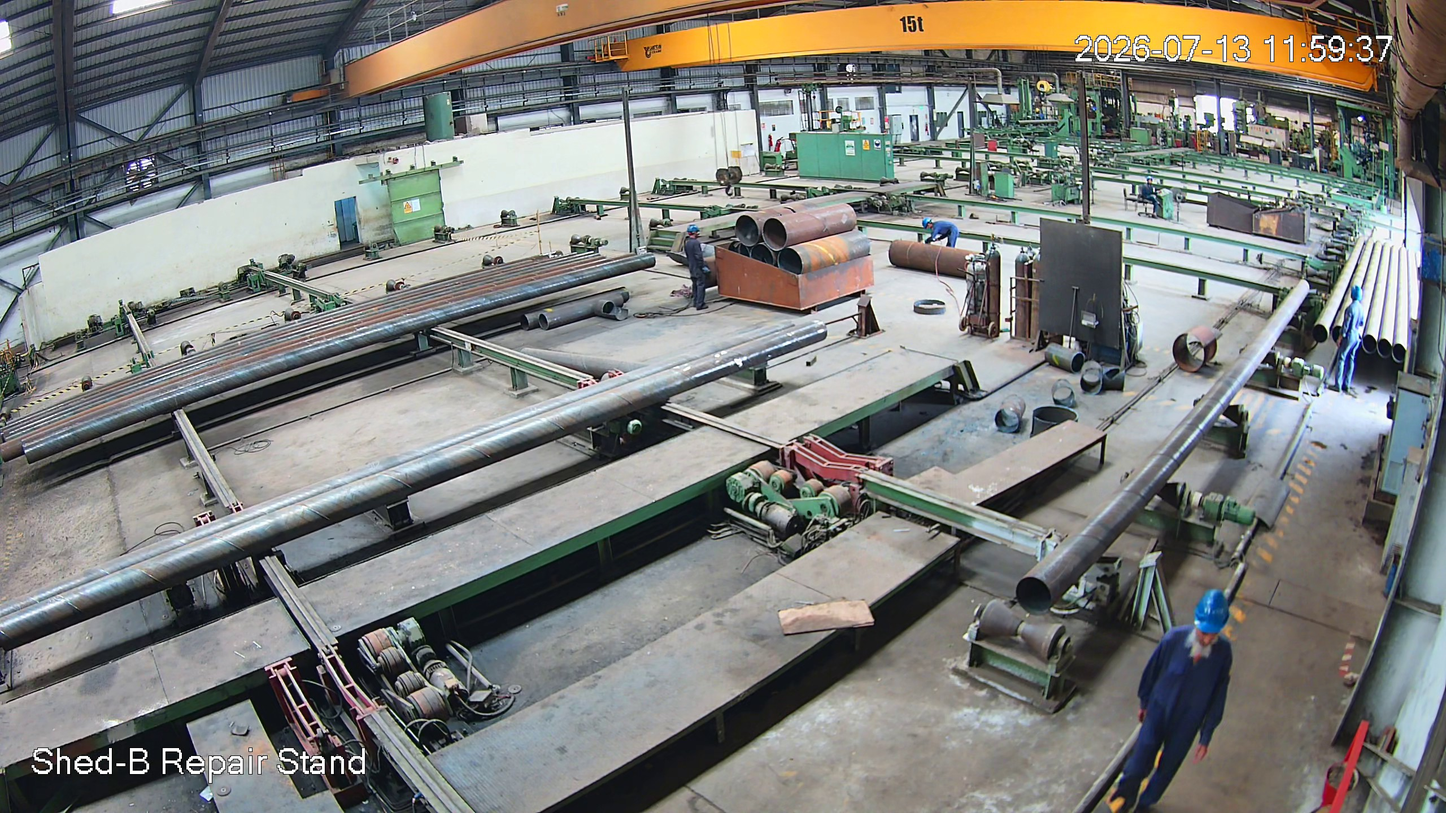Helmet: (1163, 574, 1289, 682), (684, 225, 708, 245)
Person: (1024, 590, 1257, 813), (681, 227, 709, 312)
